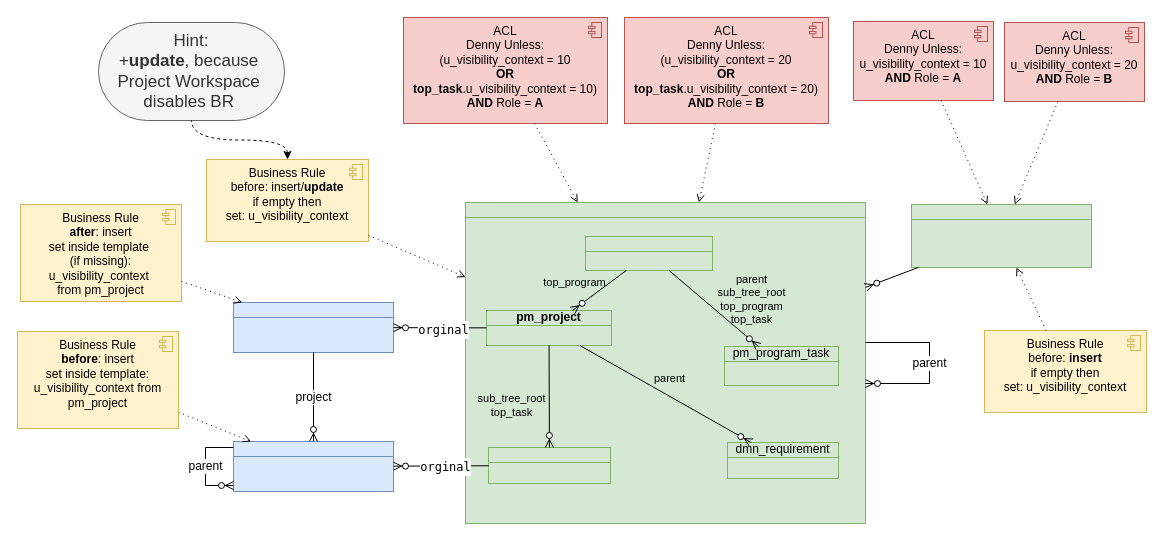
This 1164x541 diagram has some shape labels left out. Here are the shapes that lost their labels. From the top down, the box of each, then its label:
(584, 236, 712, 270): pm_program
(910, 204, 1092, 268): pm_portfolio
(232, 302, 394, 352): project_template
(464, 202, 866, 524): planned_task
(232, 440, 394, 492): project_template_task
(488, 446, 610, 484): pm_project_task
